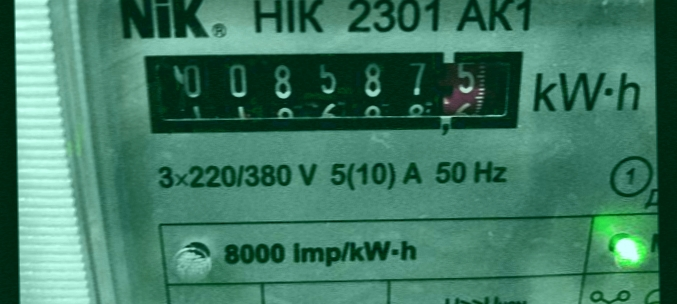0: (225, 60, 250, 100)
1: (179, 61, 204, 102)
5: (454, 57, 479, 97), (316, 59, 339, 98)
7: (405, 59, 429, 100)
8: (269, 61, 295, 102), (361, 60, 383, 101)
screen: (123, 30, 543, 156)
